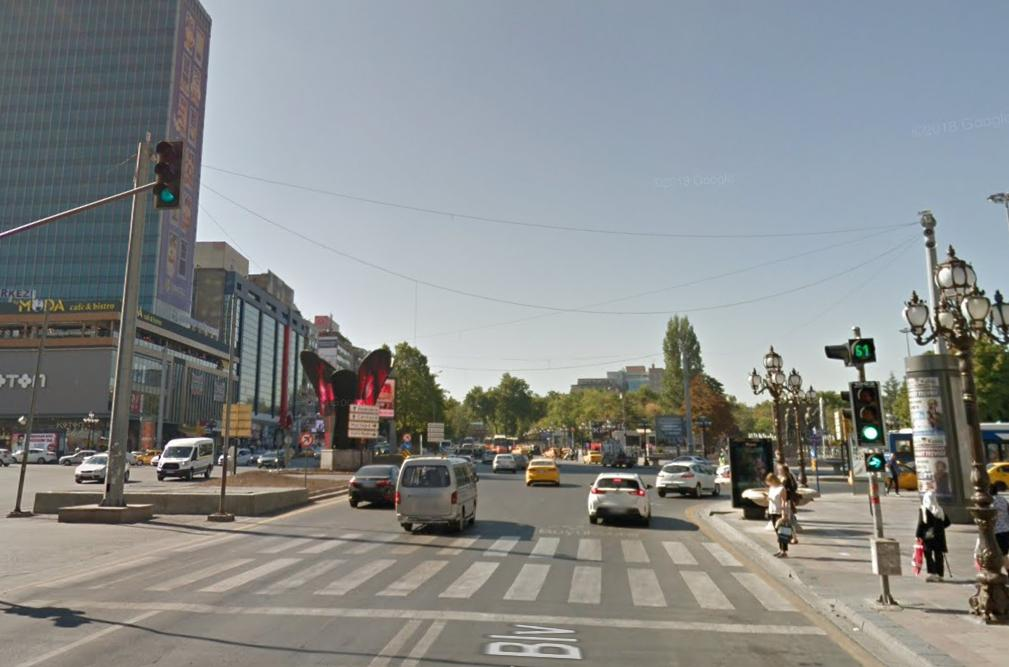greenlight: (853, 380, 885, 448), (153, 141, 183, 210)
